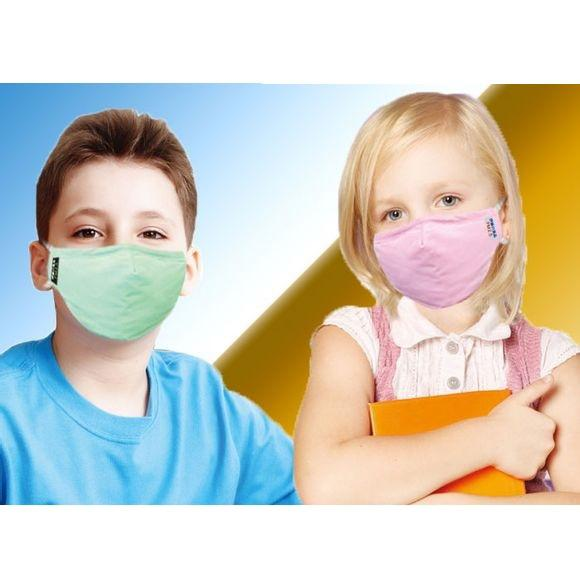OK: (59, 201, 184, 326), (376, 178, 500, 295)
